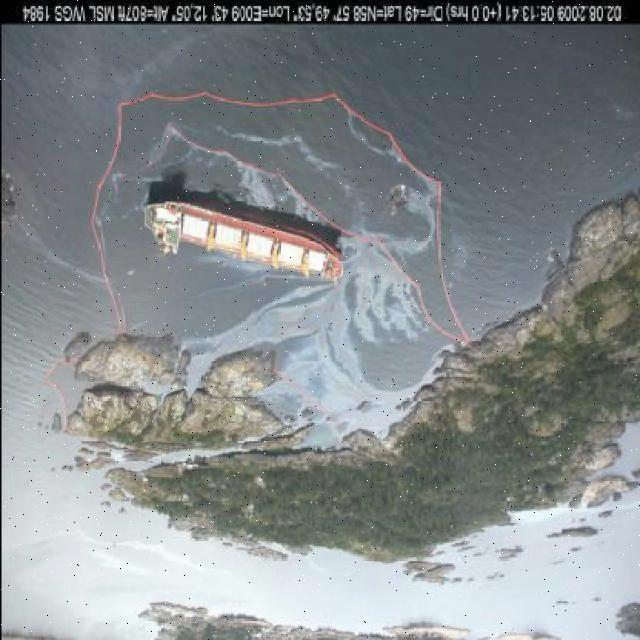oil: (90, 78, 460, 442), (65, 518, 234, 596)
